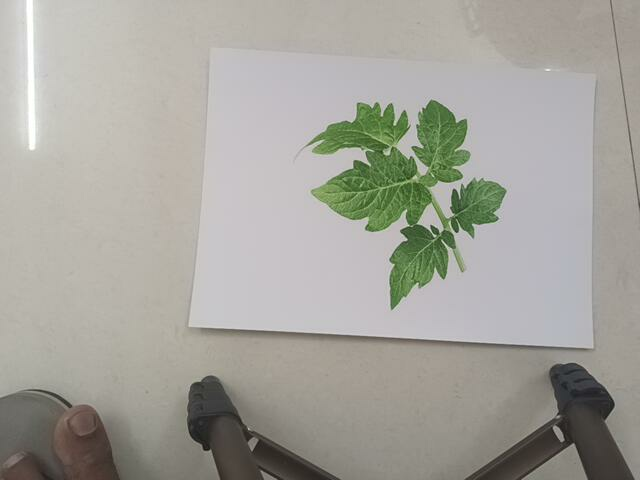Tomamto_Leaf_Healthy: (290, 93, 511, 304)
